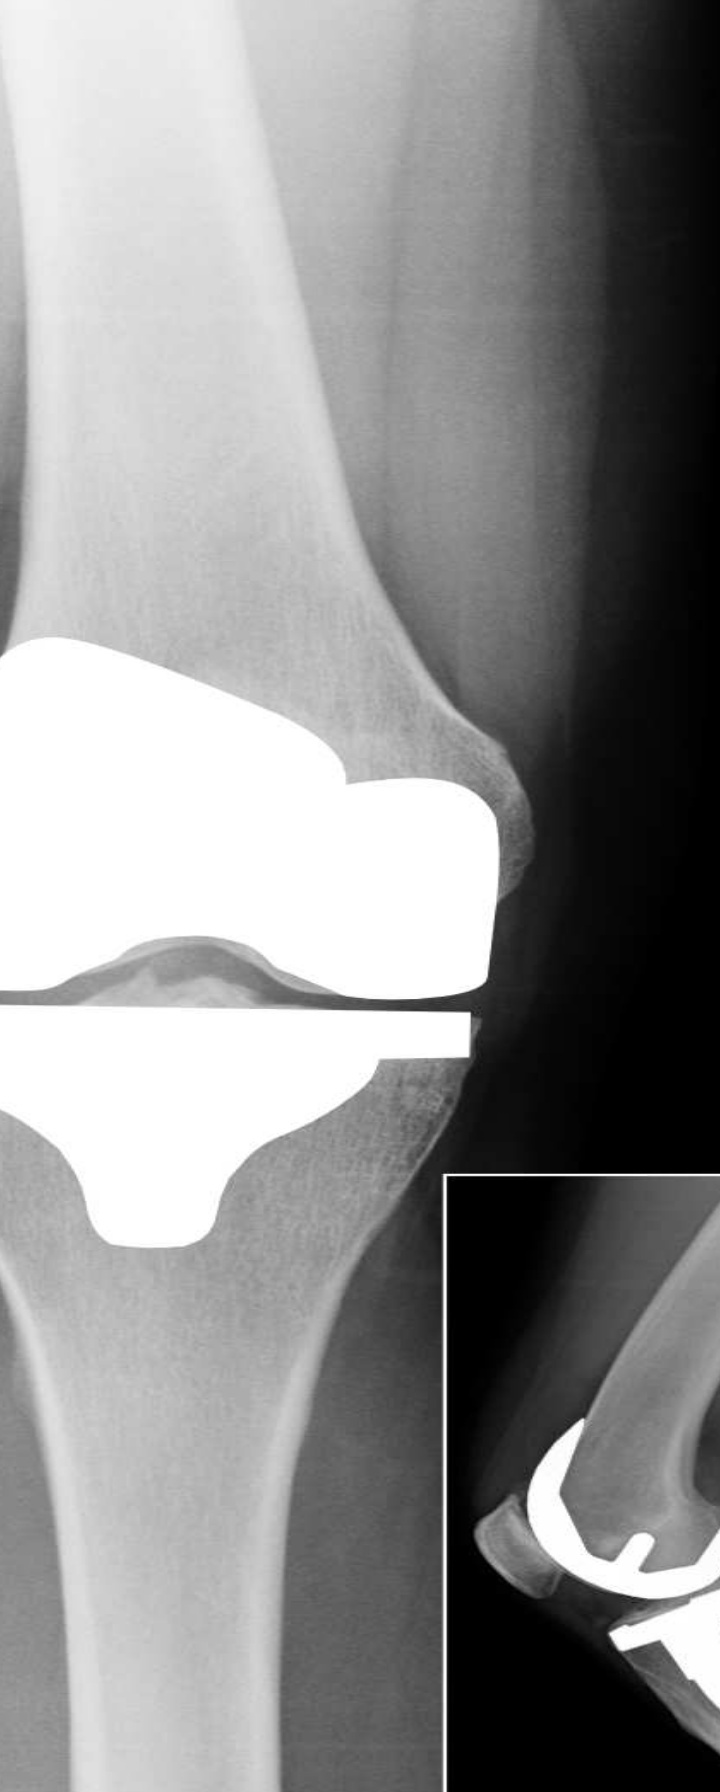Knee-Triathlon-Stryker: (1, 624, 544, 1259), (523, 1394, 720, 1721)
